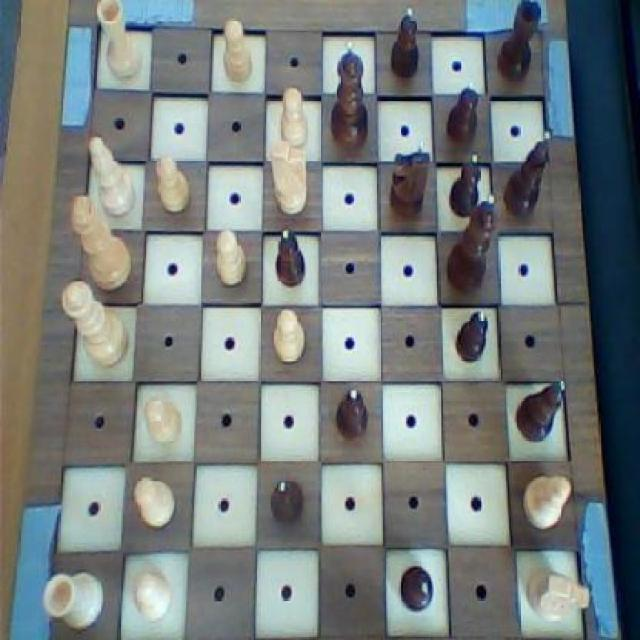bishop: (502, 126, 552, 219), (512, 374, 570, 449)
black-bishop: (443, 190, 501, 298)
black-king: (386, 135, 430, 227)
black-knight: (448, 151, 485, 224), (271, 225, 311, 292), (443, 77, 482, 145), (389, 2, 421, 83), (394, 557, 438, 615), (268, 468, 309, 530), (452, 306, 490, 367), (331, 383, 370, 442)
black-pawn: (326, 35, 372, 151)
black-queen: (496, 0, 546, 88)
black-rook: (84, 128, 138, 220), (518, 468, 577, 534)
white-bishop: (70, 191, 136, 291)
white-king: (522, 562, 596, 629), (266, 137, 312, 218)
white-knight: (215, 14, 258, 91), (128, 469, 179, 531), (151, 150, 194, 218), (211, 223, 252, 292), (269, 305, 312, 370), (275, 78, 313, 150), (129, 564, 174, 624), (142, 392, 184, 453)
white-pawn: (60, 276, 129, 372)
white-queen: (92, 0, 146, 85), (40, 566, 106, 632)
